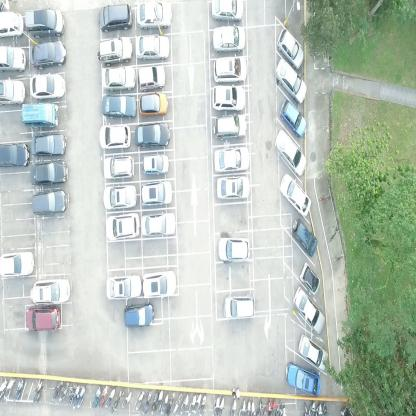car: (293, 286, 325, 335), (278, 172, 312, 218), (275, 130, 307, 176), (275, 58, 307, 104), (284, 362, 320, 396), (298, 332, 329, 371), (25, 7, 65, 37), (276, 26, 304, 68), (279, 98, 307, 138), (30, 39, 66, 70), (135, 0, 172, 29), (96, 37, 133, 66), (20, 101, 58, 129), (291, 217, 317, 257), (99, 3, 132, 34), (30, 158, 67, 185), (28, 72, 66, 98), (212, 25, 246, 54), (0, 250, 34, 279), (212, 114, 248, 141), (141, 270, 177, 297), (29, 281, 71, 304), (213, 147, 250, 173), (24, 306, 61, 332), (213, 55, 247, 83), (104, 273, 142, 298), (135, 34, 170, 61), (134, 121, 170, 147), (102, 184, 137, 210), (0, 140, 31, 169), (217, 235, 250, 262), (140, 179, 173, 206), (104, 213, 139, 238), (102, 94, 137, 119), (102, 154, 135, 180), (99, 124, 132, 150), (102, 66, 136, 91), (141, 211, 176, 235), (30, 134, 68, 156), (213, 85, 245, 111), (216, 175, 250, 199), (224, 293, 255, 319), (31, 192, 67, 214), (0, 78, 26, 107), (138, 92, 168, 117), (138, 65, 166, 91), (0, 45, 26, 73), (124, 304, 154, 328), (211, 0, 242, 23), (0, 10, 24, 39), (299, 262, 320, 294), (142, 152, 170, 174)
